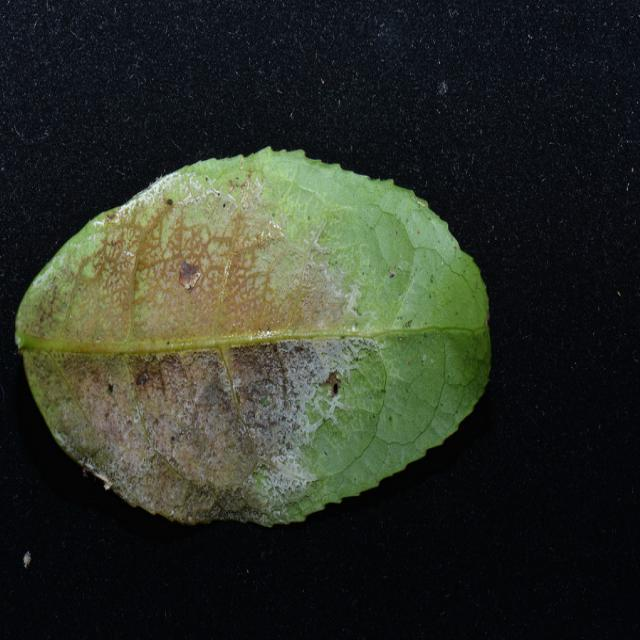Tea exobasidium blight: (36, 188, 329, 509)
